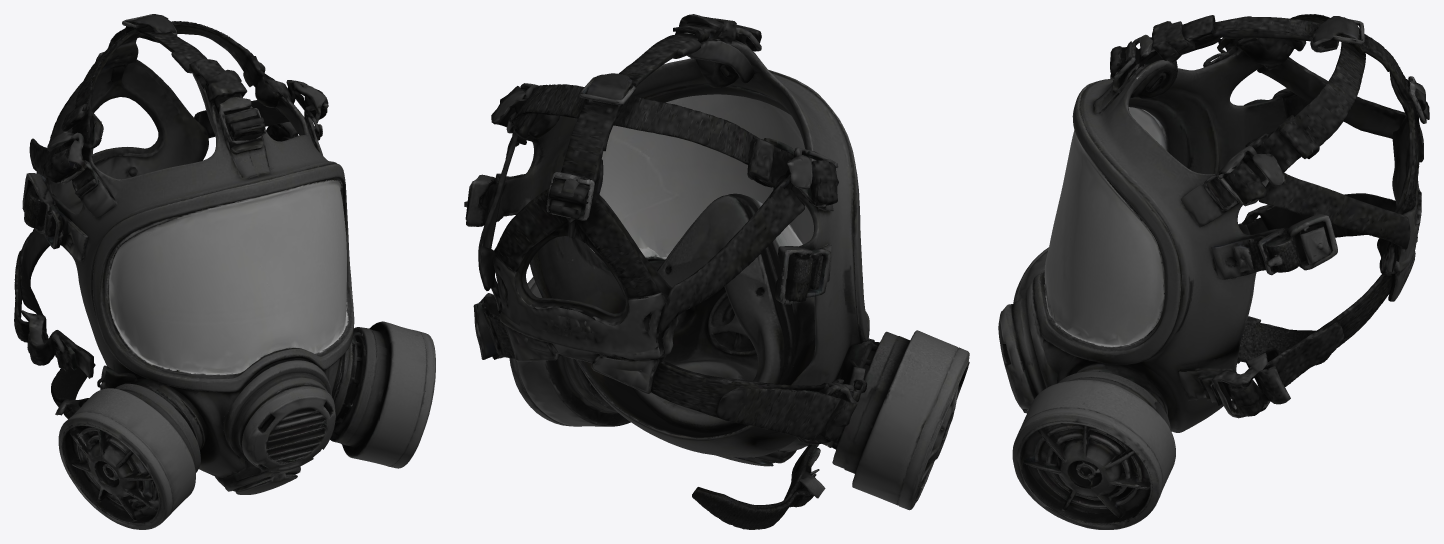
Rendered from gas_mask_3d_model_Clone1_Clone1_Clone1_Clone1_Clone1.fbx.
3 views of the same model, side by side, from view 1: azimuth 30°, elevation 25°; view 2: azimuth 150°, elevation 25°; view 3: azimuth 270°, elevation 25° (orthographic). The views are drawn at different scales.
Parts seen in each view (by area): view 1: tripo_part_2, tripo_part_0, tripo_part_4, tripo_part_1, tripo_part_5, tripo_part_8, tripo_part_6, tripo_part_9; view 2: tripo_part_2, tripo_part_0, tripo_part_4, tripo_part_1, tripo_part_6, tripo_part_8, tripo_part_3, tripo_part_7, tripo_part_10, tripo_part_11, tripo_part_9, tripo_part_5; view 3: tripo_part_2, tripo_part_0, tripo_part_1, tripo_part_7, tripo_part_5, tripo_part_6, tripo_part_4, tripo_part_8, tripo_part_10.
Part boxes in pixels (x1,y1,x2,y2): tripo_part_2: [52, 96, 354, 477]; tripo_part_0: [14, 14, 328, 378]; tripo_part_4: [58, 378, 208, 529]; tripo_part_1: [330, 321, 435, 468]; tripo_part_5: [215, 359, 335, 494]; tripo_part_8: [22, 173, 88, 261]; tripo_part_6: [51, 363, 95, 418]; tripo_part_9: [97, 365, 135, 389]; tripo_part_2: [494, 40, 869, 457]; tripo_part_0: [473, 14, 857, 444]; tripo_part_4: [822, 330, 969, 510]; tripo_part_1: [509, 277, 630, 426]; tripo_part_6: [692, 444, 825, 529]; tripo_part_8: [778, 243, 831, 304]; tripo_part_3: [657, 193, 814, 368]; tripo_part_7: [464, 173, 524, 226]; tripo_part_10: [695, 59, 732, 87]; tripo_part_11: [546, 172, 594, 220]; tripo_part_9: [840, 358, 867, 401]; tripo_part_5: [716, 450, 796, 466]; tripo_part_2: [1033, 48, 1287, 432]; tripo_part_0: [1110, 14, 1429, 418]; tripo_part_1: [1012, 362, 1175, 529]; tripo_part_7: [1211, 214, 1337, 279]; tripo_part_5: [998, 282, 1057, 413]; tripo_part_6: [1237, 316, 1331, 365]; tripo_part_4: [1013, 247, 1048, 303]; tripo_part_8: [1244, 88, 1308, 117]; tripo_part_10: [1149, 60, 1177, 98].
Size of the model in its own units: 0.9273 by 1 by 0.8923.
